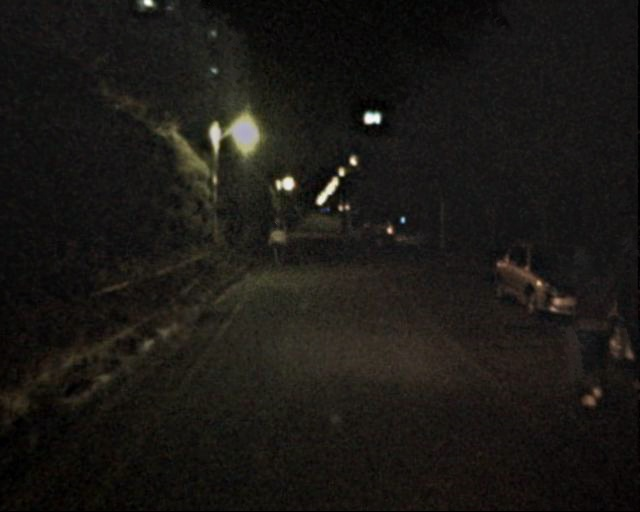person: (546, 241, 622, 407), (607, 239, 640, 402), (268, 213, 290, 264), (373, 219, 386, 250), (339, 219, 356, 238)
